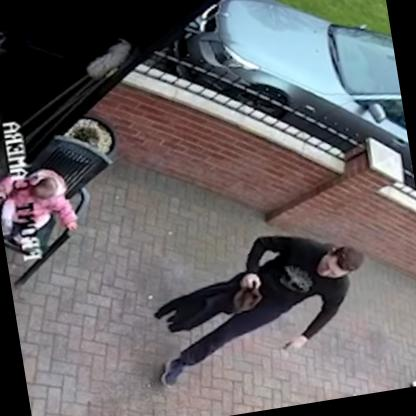Human Body: (127, 212, 384, 395), (0, 158, 85, 259)
